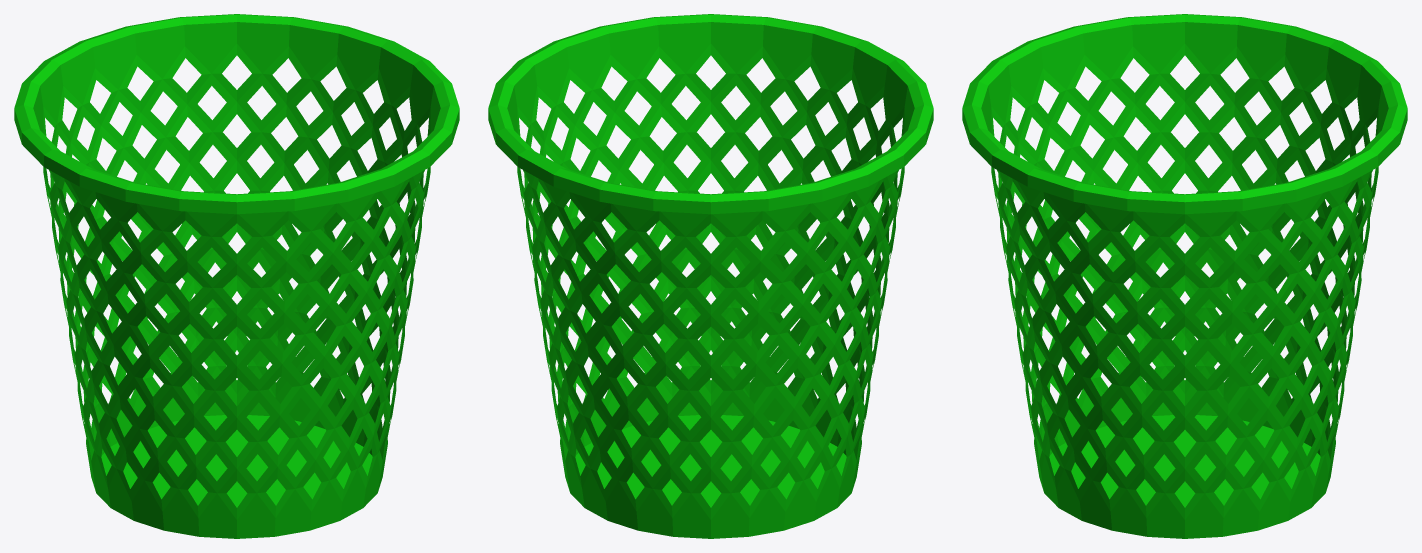
Rendered from dust_bin.obj.
3 views of the same model, side by side, from view 1: azimuth 30°, elevation 25°; view 2: azimuth 150°, elevation 25°; view 3: azimuth 270°, elevation 25° (orthographic).
Parts seen in each view (by area): view 1: Cylinder; view 2: Cylinder; view 3: Cylinder.
Part boxes in pixels (x1,y1,x2,y2): Cylinder: (14,14,459,538); Cylinder: (488,14,933,538); Cylinder: (962,14,1407,538).
Bounding box in the file's own units: 1.72 × 1.59 × 1.72.
